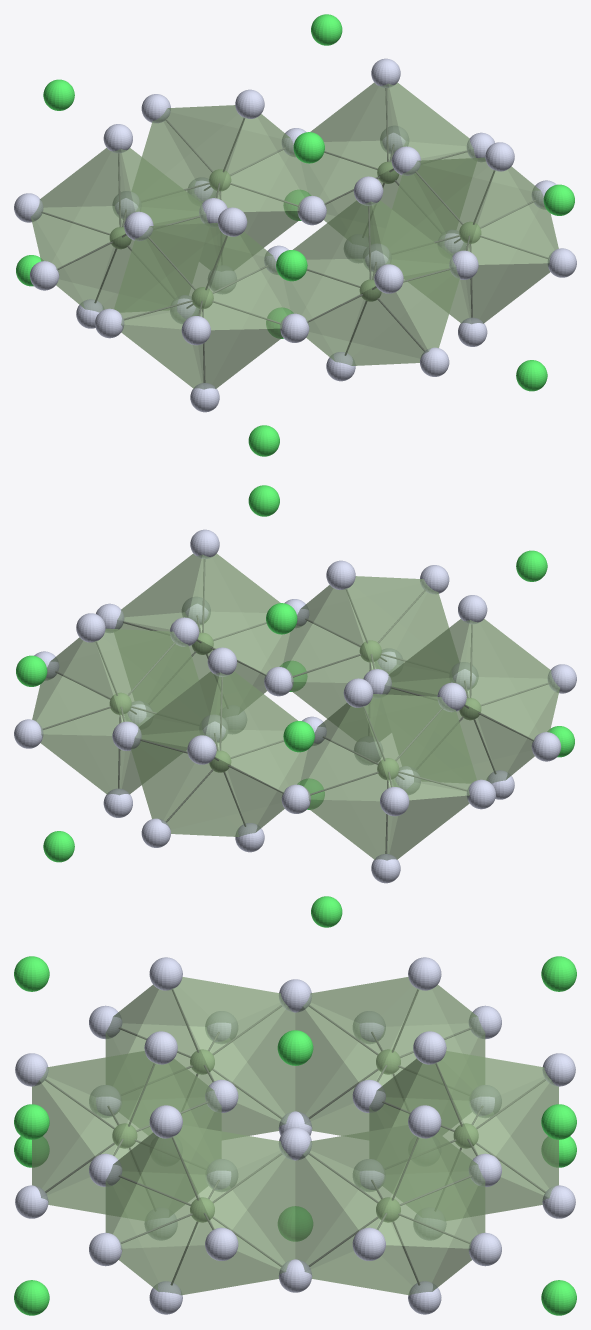
The model's file is BaEr2F8.fbx.
3 renders of one model, top to bottom at view 1: azimuth 30°, elevation 25°; view 2: azimuth 150°, elevation 25°; view 3: azimuth 270°, elevation 25°, orthographic. The views are drawn at different scales.
Visible parts, largest first — view 1: Shape_IndexedFaceSet.052, Shape_IndexedFaceSet.064, Shape_IndexedFaceSet.016, Shape_IndexedFaceSet.006, Shape_IndexedFaceSet.043, Shape_IndexedFaceSet.062, Shape_IndexedFaceSet.037, Shape_IndexedFaceSet.001, Shape_IndexedFaceSet.061, Shape_IndexedFaceSet.007, Shape_IndexedFaceSet.025, Shape_IndexedFaceSet.017 (+85 smaller); view 2: Shape_IndexedFaceSet.028, Shape_IndexedFaceSet.040, Shape_IndexedFaceSet.004, Shape_IndexedFaceSet.018, Shape_IndexedFaceSet.067, Shape_IndexedFaceSet.038, Shape_IndexedFaceSet.061, Shape_IndexedFaceSet.013, Shape_IndexedFaceSet.037, Shape_IndexedFaceSet.019, Shape_IndexedFaceSet.049, Shape_IndexedFaceSet.005 (+85 smaller); view 3: Shape_IndexedFaceSet.036, Shape_IndexedFaceSet.060, Shape_IndexedFaceSet, Shape_IndexedFaceSet.012, Shape_IndexedFaceSet.024, Shape_IndexedFaceSet.048, Shape_IndexedFaceSet.027, Shape_IndexedFaceSet.051, Shape_IndexedFaceSet.032, Shape_IndexedFaceSet.056, Shape_IndexedFaceSet.059, Shape_IndexedFaceSet.035 (+102 smaller).
Boxes of the visible parts, x1,y1,x2,y2 form: Shape_IndexedFaceSet.052: (469, 170, 554, 264); Shape_IndexedFaceSet.064: (201, 235, 286, 330); Shape_IndexedFaceSet.016: (218, 117, 304, 211); Shape_IndexedFaceSet.006: (307, 286, 428, 358); Shape_IndexedFaceSet.043: (37, 206, 121, 300); Shape_IndexedFaceSet.062: (121, 232, 227, 329); Shape_IndexedFaceSet.037: (52, 149, 135, 269); Shape_IndexedFaceSet.001: (302, 201, 385, 321); Shape_IndexedFaceSet.061: (114, 223, 220, 313); Shape_IndexedFaceSet.007: (292, 259, 372, 352); Shape_IndexedFaceSet.025: (319, 84, 402, 203); Shape_IndexedFaceSet.017: (164, 112, 281, 181); Shape_IndexedFaceSet.028: (36, 641, 121, 735); Shape_IndexedFaceSet.040: (304, 706, 389, 801); Shape_IndexedFaceSet.004: (286, 588, 372, 682); Shape_IndexedFaceSet.018: (162, 757, 283, 829); Shape_IndexedFaceSet.067: (469, 677, 553, 771); Shape_IndexedFaceSet.038: (363, 703, 469, 800); Shape_IndexedFaceSet.061: (455, 620, 538, 740); Shape_IndexedFaceSet.013: (205, 672, 288, 792); Shape_IndexedFaceSet.037: (370, 694, 476, 784); Shape_IndexedFaceSet.019: (218, 730, 298, 823); Shape_IndexedFaceSet.049: (188, 555, 271, 674); Shape_IndexedFaceSet.005: (309, 583, 426, 652); Shape_IndexedFaceSet.036: (303, 977, 417, 1082); Shape_IndexedFaceSet.060: (173, 977, 287, 1082); Shape_IndexedFaceSet: (39, 1051, 154, 1156); Shape_IndexedFaceSet.012: (436, 1051, 551, 1156); Shape_IndexedFaceSet.024: (303, 1125, 417, 1230); Shape_IndexedFaceSet.048: (173, 1125, 287, 1230); Shape_IndexedFaceSet.027: (376, 1136, 477, 1248); Shape_IndexedFaceSet.051: (113, 1136, 214, 1248); Shape_IndexedFaceSet.032: (378, 1171, 477, 1282); Shape_IndexedFaceSet.056: (113, 1171, 212, 1282); Shape_IndexedFaceSet.059: (174, 1186, 284, 1294); Shape_IndexedFaceSet.035: (306, 1186, 416, 1294).
Size of the model in its own units: 1203 by 490 by 1120.
